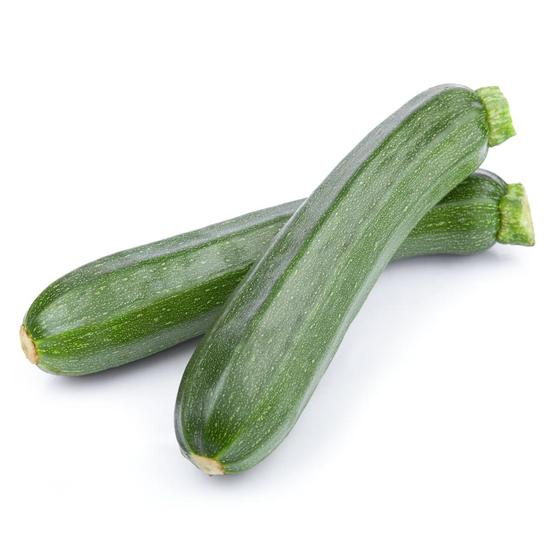zucchini: (3, 173, 549, 376)
